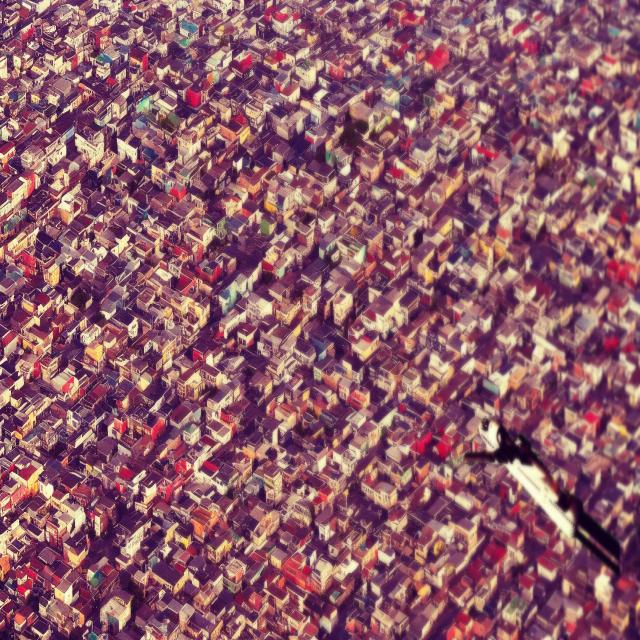airplane: (464, 417, 620, 571)
